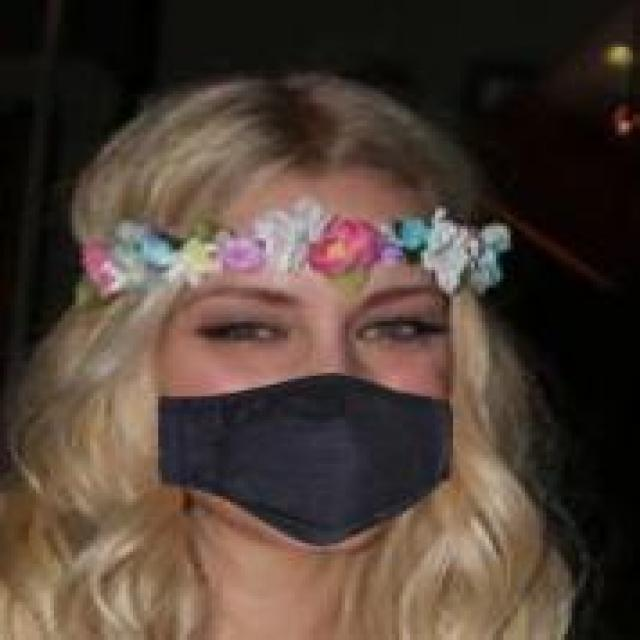mask: (101, 97, 539, 552)
